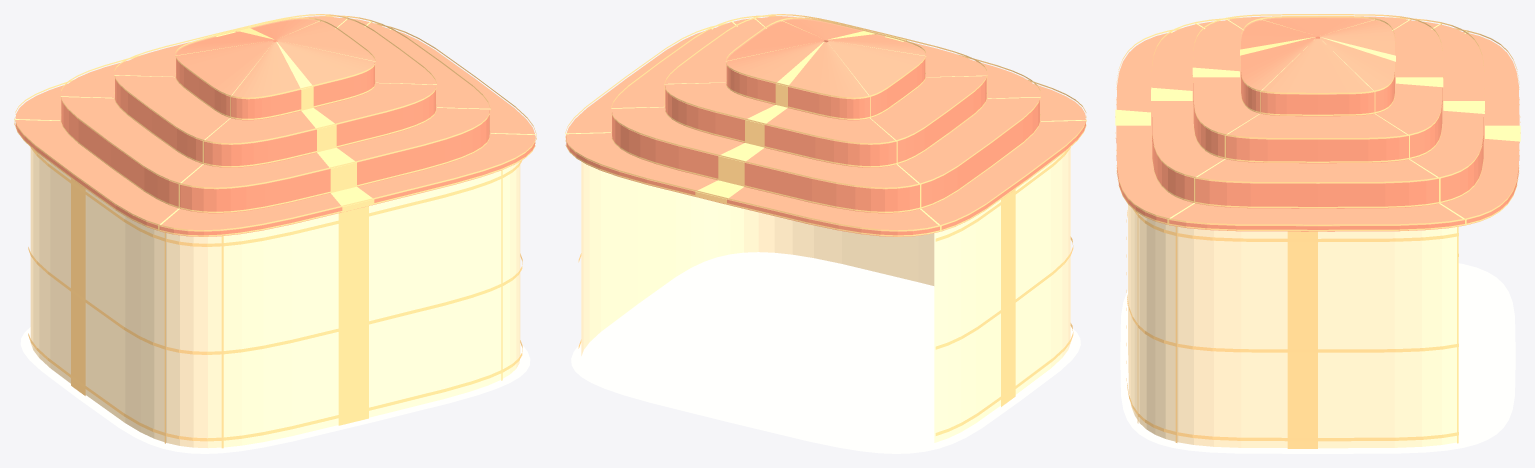
The model's file is cabin-latin.glb.
3 renders of one model, left to right at view 1: azimuth 30°, elevation 25°; view 2: azimuth 150°, elevation 25°; view 3: azimuth 270°, elevation 25°, orthographic. The views are drawn at different scales.
Visible parts, largest first — view 1: SUNSET CASITA; view 2: SUNSET CASITA; view 3: SUNSET CASITA.
Boxes of the visible parts, box(x1,y1,x2,y2) form: SUNSET CASITA: box(14, 14, 536, 453); SUNSET CASITA: box(565, 14, 1086, 453); SUNSET CASITA: box(1115, 14, 1520, 453).
Size of the model in its own units: 9.72 by 7.2 by 8.29.
